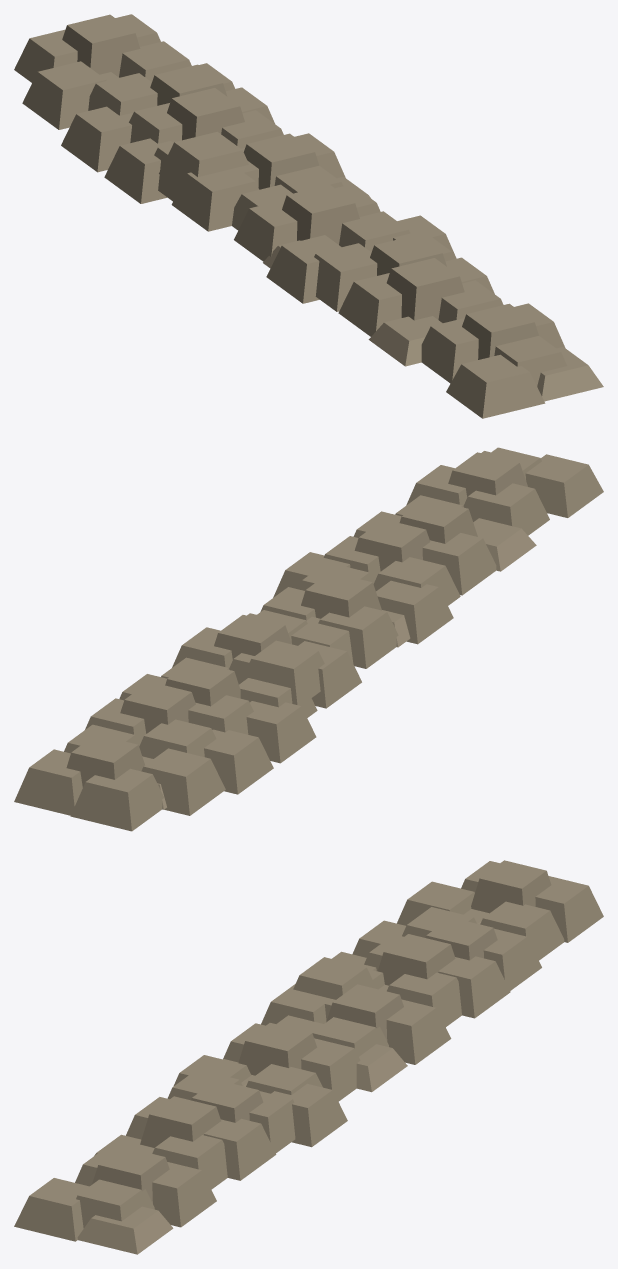
Rendered from Meikuai_all.fbx.
3 renders of one model, top to bottom at view 1: azimuth 30°, elevation 25°; view 2: azimuth 150°, elevation 25°; view 3: azimuth 330°, elevation 25°, orthographic.
Parts seen in each view (by area): view 1: meikuai; view 2: meikuai; view 3: meikuai.
Boxes of the visible parts, <box> form: meikuai: <box>14,14,603,418</box>; meikuai: <box>14,447,603,831</box>; meikuai: <box>14,860,603,1254</box>.
Bounding box in the file's own units: 417 × 145 × 2072.
